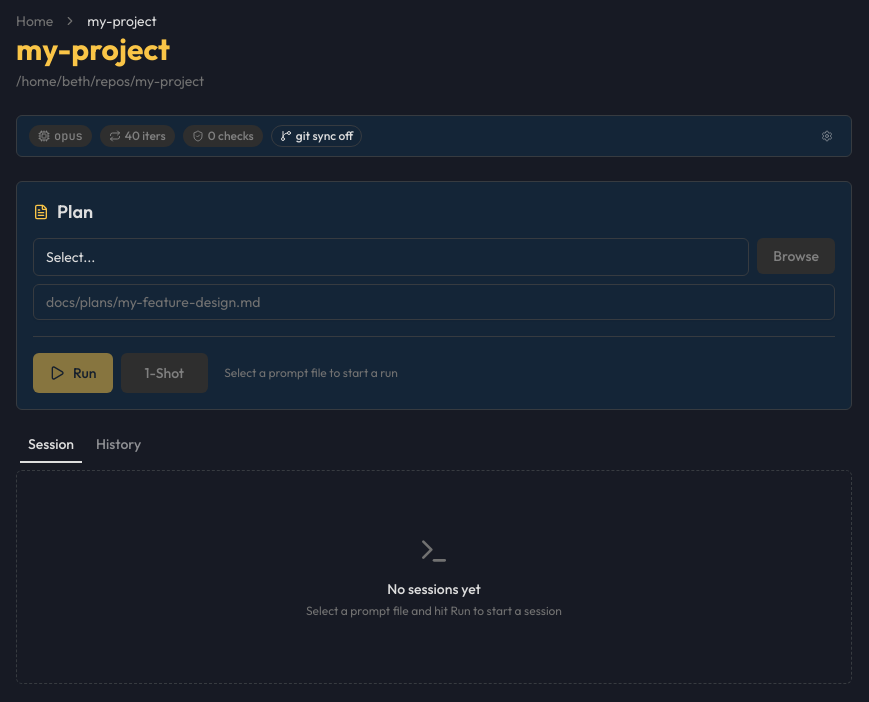
Test: RepoDetail › name editing › Escape key cancels editing
Click the heading "my-project" at [93, 49], box [16,30,170,68]
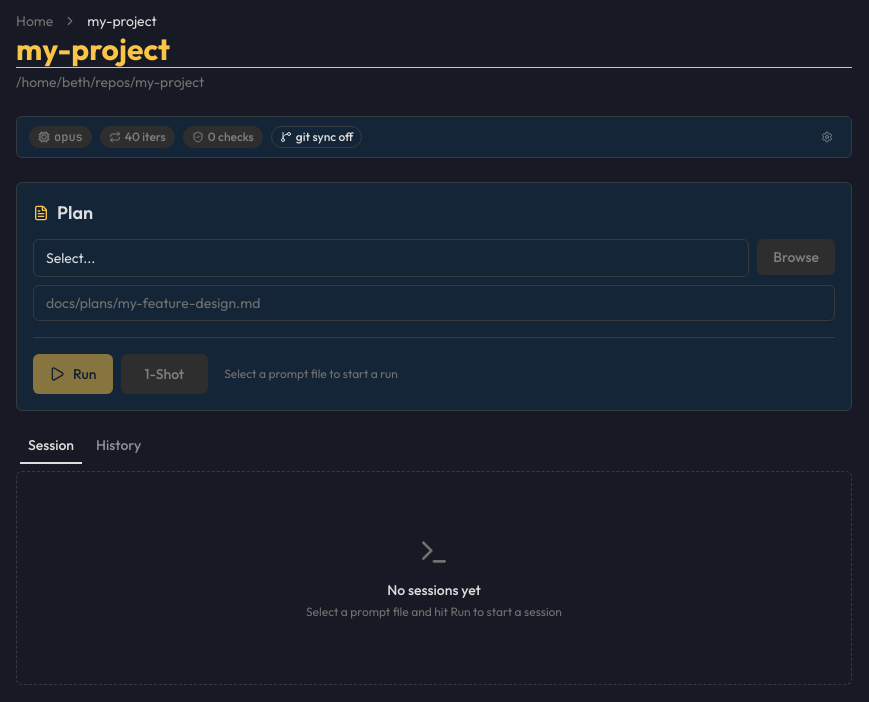
Replace the text in the field showing "my-project" with "renamed-project" at [434, 50], box [16,31,852,68]
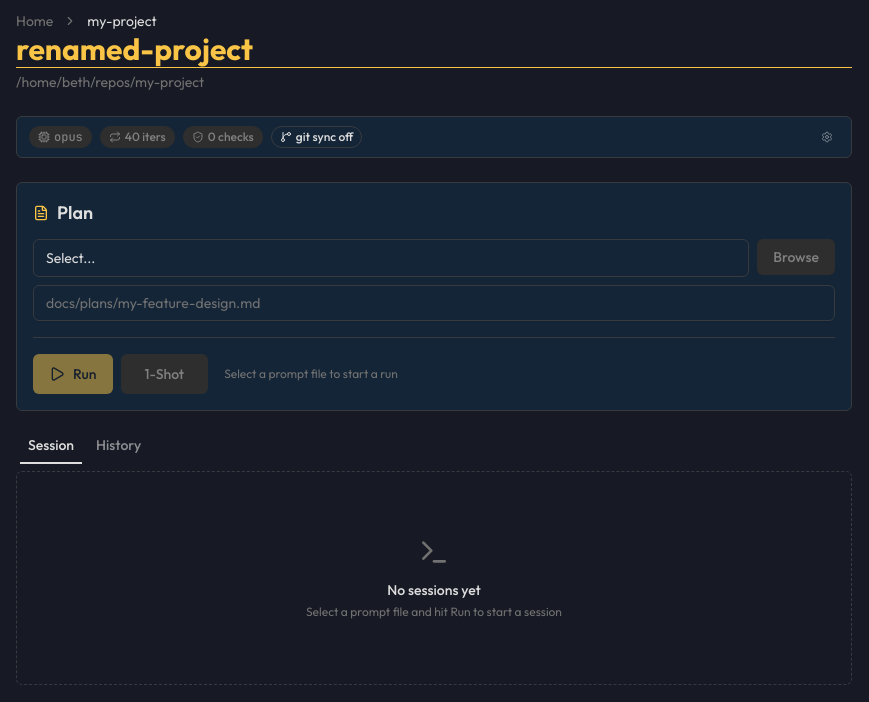
Press Escape in the field showing "my-project", box [16,31,852,68]
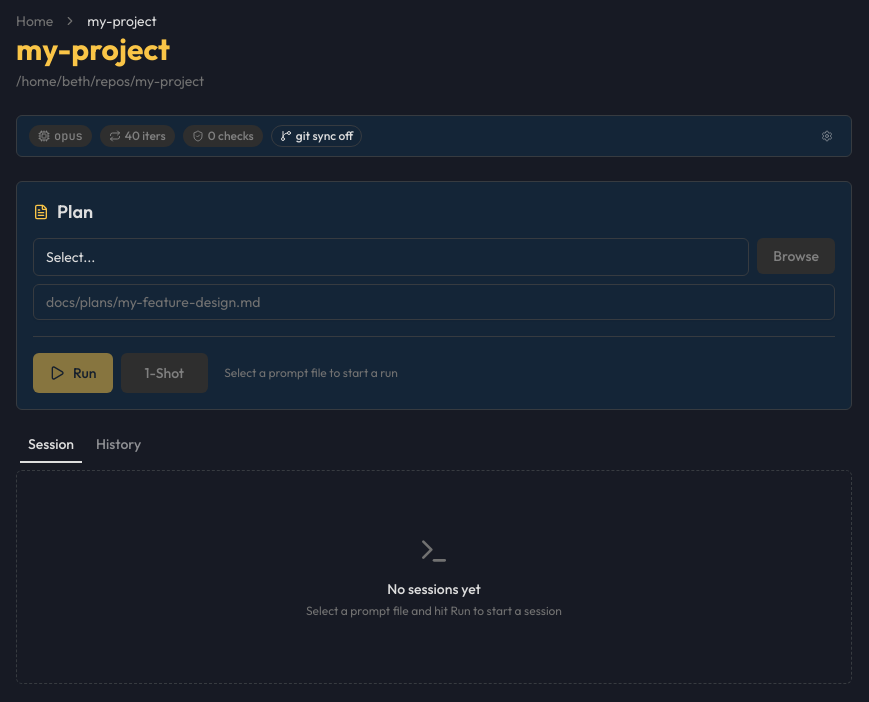
expect the field showing "renamed-project" is not shown: met
expect the heading "my-project" is shown: met, box [16,30,170,68]
